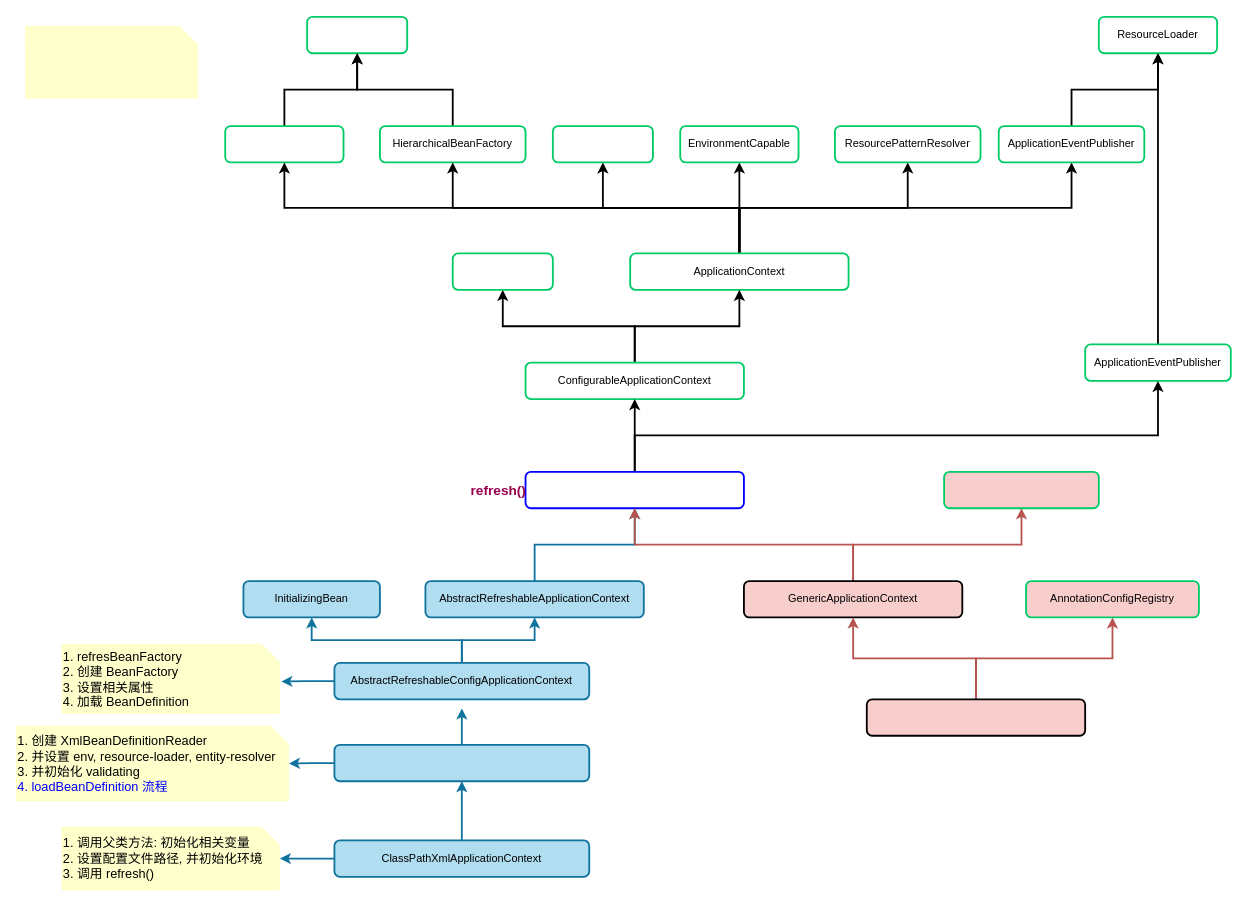
This 1247x905 diagram has some shape labels left out. The centre of each missing label's shape, as x and y in pixels:
"1. 接口: 绿色[00CC66] 2. 抽象类: 蓝色[0000FF] 3. 实现类: 黑色[000000]" goes at (111,61).
"AbstractApplicationContext" goes at (634,489).
"AbstractXmlApplicationContext" goes at (461,762).
"AnnotationConfigApplicationContext" goes at (975,717).
"BeanDefinitionRegistry" goes at (1021,489).
"BeanFactory" goes at (357,34).
"Lifecycle" goes at (502,271).
"ListableBeanFactory" goes at (284,144).
"MessageSource" goes at (602,144).
